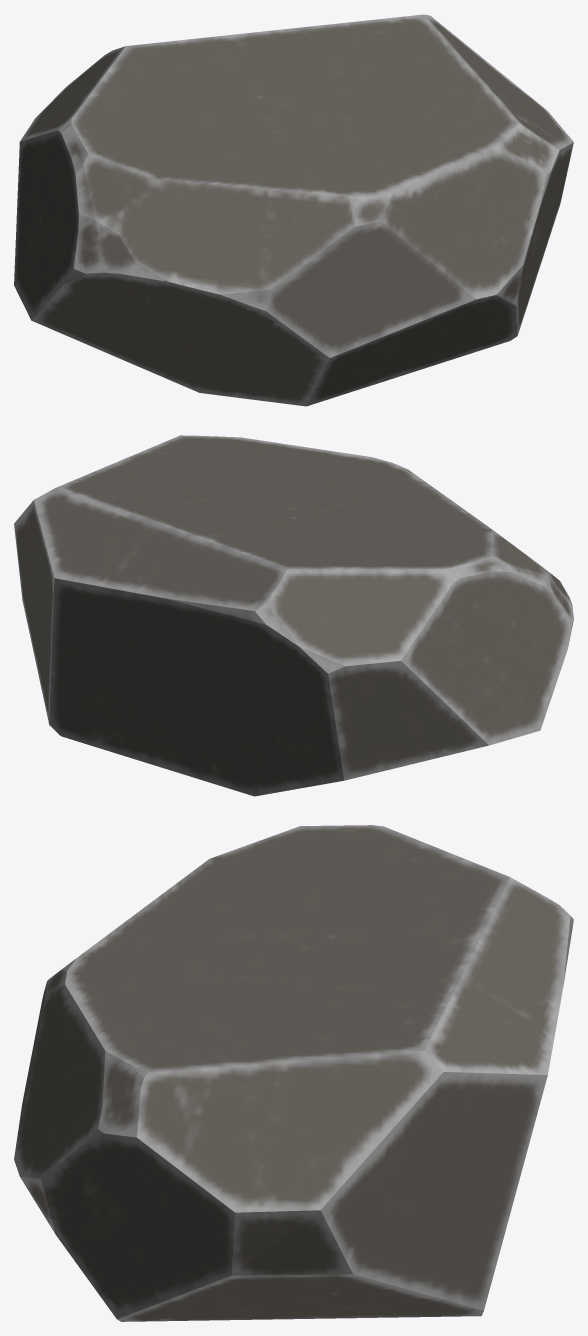
Rendered from Rock1.fbx.
3 views of the same model, one above another, from view 1: azimuth 30°, elevation 25°; view 2: azimuth 150°, elevation 25°; view 3: azimuth 270°, elevation 25° (orthographic). The views are drawn at different scales.
Parts seen in each view (by area): view 1: Rock; view 2: Rock; view 3: Rock.
Part boxes in pixels (x1,y1,x2,y2): Rock: (14, 14, 573, 406); Rock: (14, 435, 573, 796); Rock: (14, 825, 573, 1321).
Size of the model in its own units: 0.4834 by 0.3567 by 0.2196.
